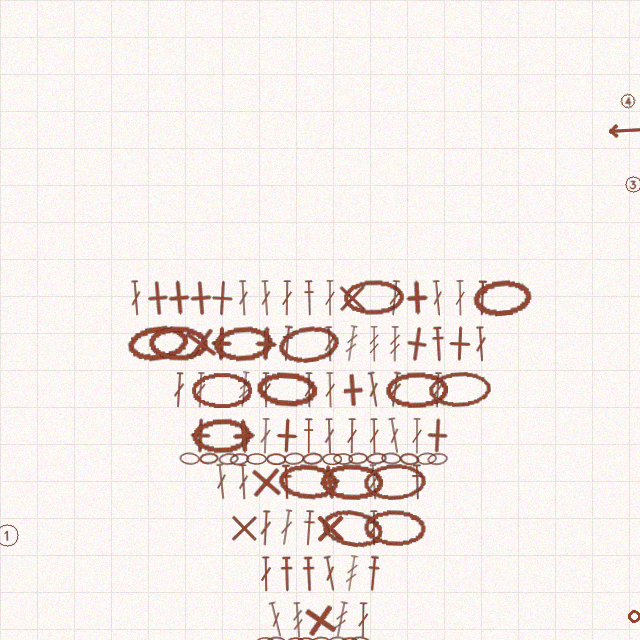chain: (319, 505, 385, 551), (276, 322, 342, 366), (125, 322, 190, 365), (471, 277, 534, 318), (277, 462, 340, 502), (212, 324, 275, 364), (363, 462, 427, 501), (255, 370, 318, 409), (428, 370, 491, 409), (363, 509, 427, 546), (191, 417, 253, 455), (320, 463, 383, 500), (385, 371, 448, 408), (343, 279, 405, 316), (148, 325, 209, 362), (191, 372, 252, 408), (218, 452, 239, 466), (229, 452, 250, 466), (399, 452, 420, 466), (427, 452, 448, 466), (179, 452, 200, 465), (302, 452, 323, 465), (366, 452, 387, 465), (416, 452, 437, 465), (199, 452, 219, 465), (284, 452, 304, 465), (348, 452, 368, 465), (381, 452, 401, 465), (246, 453, 267, 465), (266, 453, 286, 465), (322, 453, 342, 465), (333, 453, 353, 465), (350, 635, 372, 640), (265, 636, 286, 640), (310, 636, 331, 640), (338, 636, 359, 640), (328, 636, 348, 640), (286, 637, 306, 640)
double: (266, 601, 286, 638), (321, 555, 339, 592), (278, 509, 295, 546), (386, 417, 403, 454), (365, 371, 382, 408), (387, 371, 403, 408), (214, 463, 229, 500), (387, 280, 402, 316), (430, 280, 445, 316), (367, 464, 381, 500), (172, 372, 186, 408), (474, 326, 488, 362), (129, 280, 143, 316), (259, 280, 273, 316), (259, 510, 272, 546), (237, 464, 250, 500), (259, 418, 272, 454), (323, 418, 336, 454), (194, 372, 207, 408), (431, 372, 444, 408), (323, 326, 336, 362), (237, 280, 250, 316), (357, 602, 369, 638), (260, 556, 272, 592), (368, 510, 380, 546), (346, 418, 358, 454), (368, 418, 380, 454), (411, 418, 423, 454), (260, 372, 272, 408), (303, 372, 315, 408), (324, 372, 336, 408), (281, 280, 293, 316), (324, 280, 336, 316), (454, 280, 466, 316)
half_double: (365, 555, 382, 592), (279, 325, 295, 362), (301, 510, 317, 546), (430, 326, 446, 362), (279, 556, 294, 592), (301, 556, 316, 592), (279, 464, 294, 500), (410, 464, 424, 500), (302, 280, 316, 316), (475, 280, 489, 316), (302, 418, 315, 454)
noise: (606, 121, 640, 139), (0, 522, 20, 548), (618, 91, 638, 111), (623, 174, 640, 194), (626, 608, 640, 625)
single: (299, 599, 341, 640), (180, 323, 221, 364), (310, 462, 350, 502), (397, 324, 437, 364), (159, 278, 198, 317), (247, 463, 285, 501), (225, 417, 263, 455), (333, 371, 371, 409), (139, 279, 177, 317), (182, 279, 220, 317), (203, 279, 241, 317), (182, 417, 219, 454), (268, 417, 305, 454), (419, 417, 456, 454), (203, 325, 240, 362), (247, 325, 284, 362), (441, 325, 478, 362), (398, 279, 435, 316), (226, 510, 262, 546), (312, 510, 348, 546), (334, 280, 370, 316)
treble: (332, 601, 350, 638), (343, 555, 360, 592), (343, 325, 360, 362), (236, 371, 252, 408), (291, 602, 305, 638), (368, 326, 380, 362), (389, 326, 401, 362)
